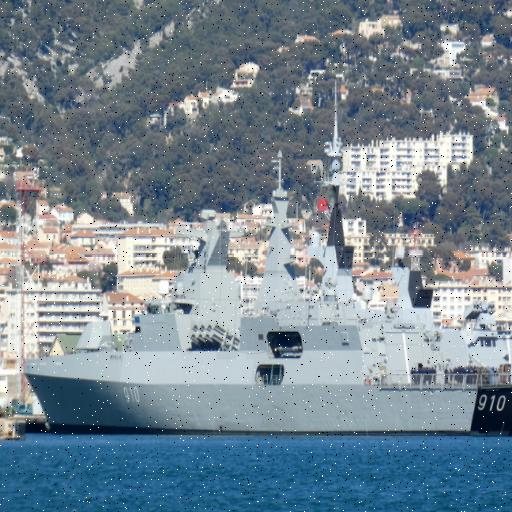Fragata: (18, 149, 512, 438)
